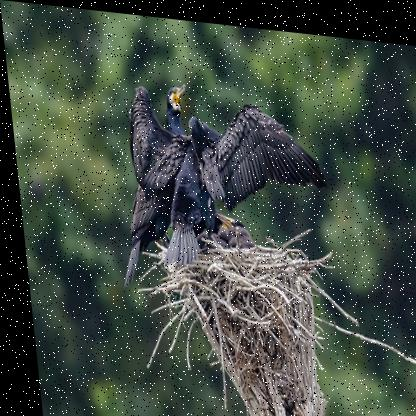Burung: (113, 87, 321, 217), (98, 70, 211, 294)
